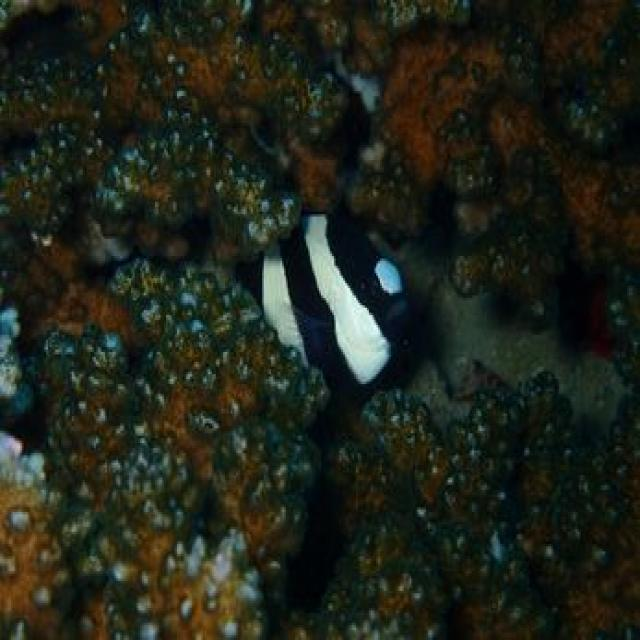Three_striped DasmselFish: (233, 214, 410, 396)
